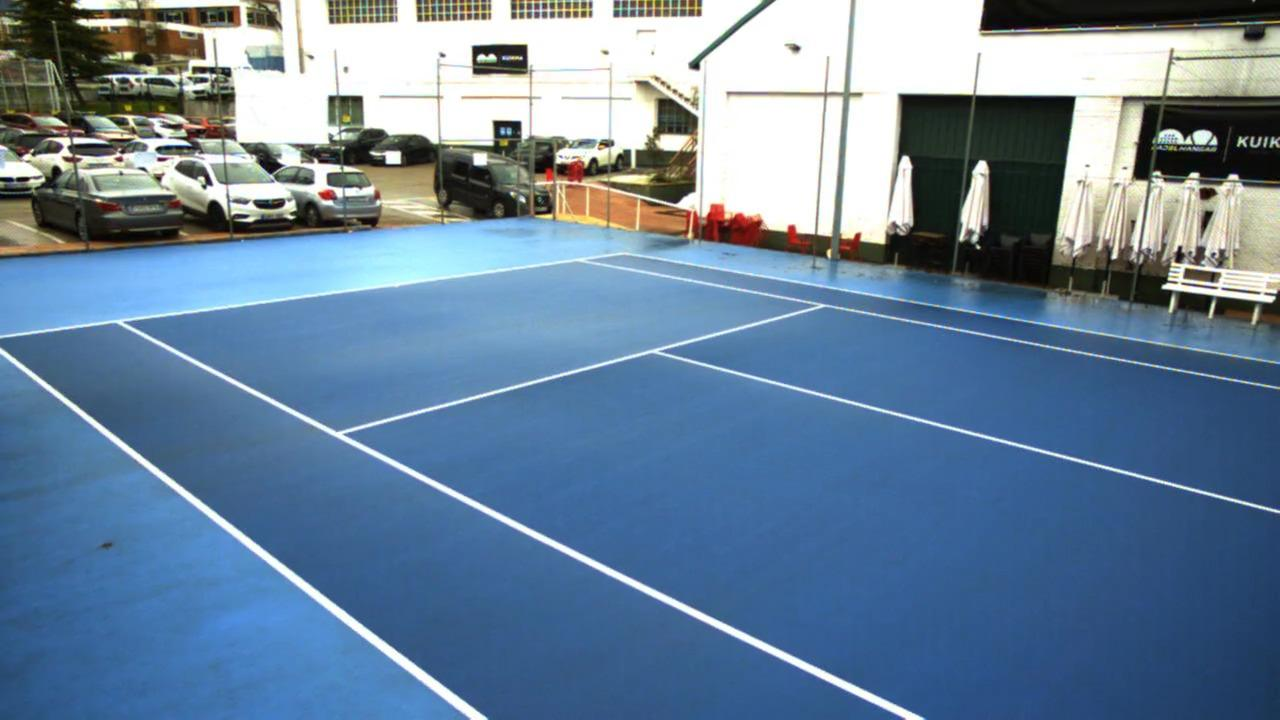cancha_tenis: (116, 258, 1280, 720)
point_f1: (110, 312, 137, 332)
point_f2: (568, 250, 593, 270)
point_fc1: (389, 278, 406, 293)
point_i1: (324, 421, 357, 447)
point_i2: (806, 297, 834, 313)
point_ic1: (642, 339, 674, 364)
